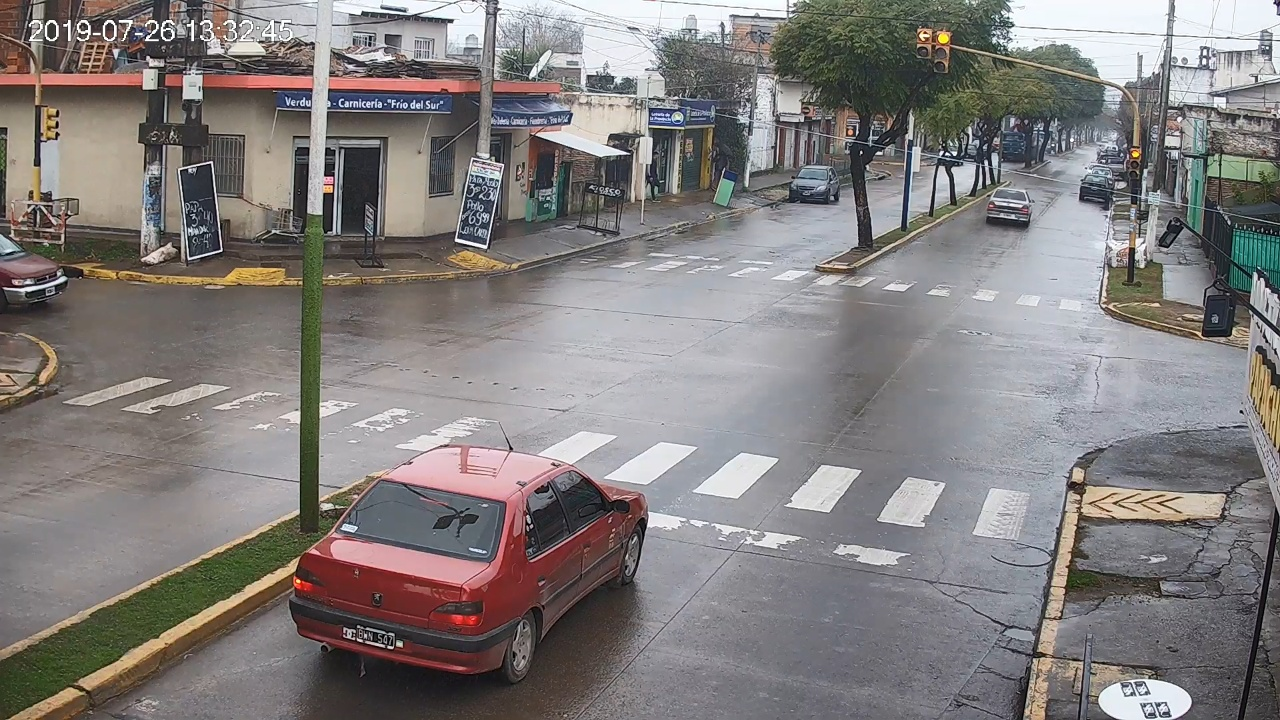car: (289, 447, 649, 684), (986, 187, 1035, 225)
traffic light: (935, 29, 949, 73), (1129, 147, 1140, 180)
